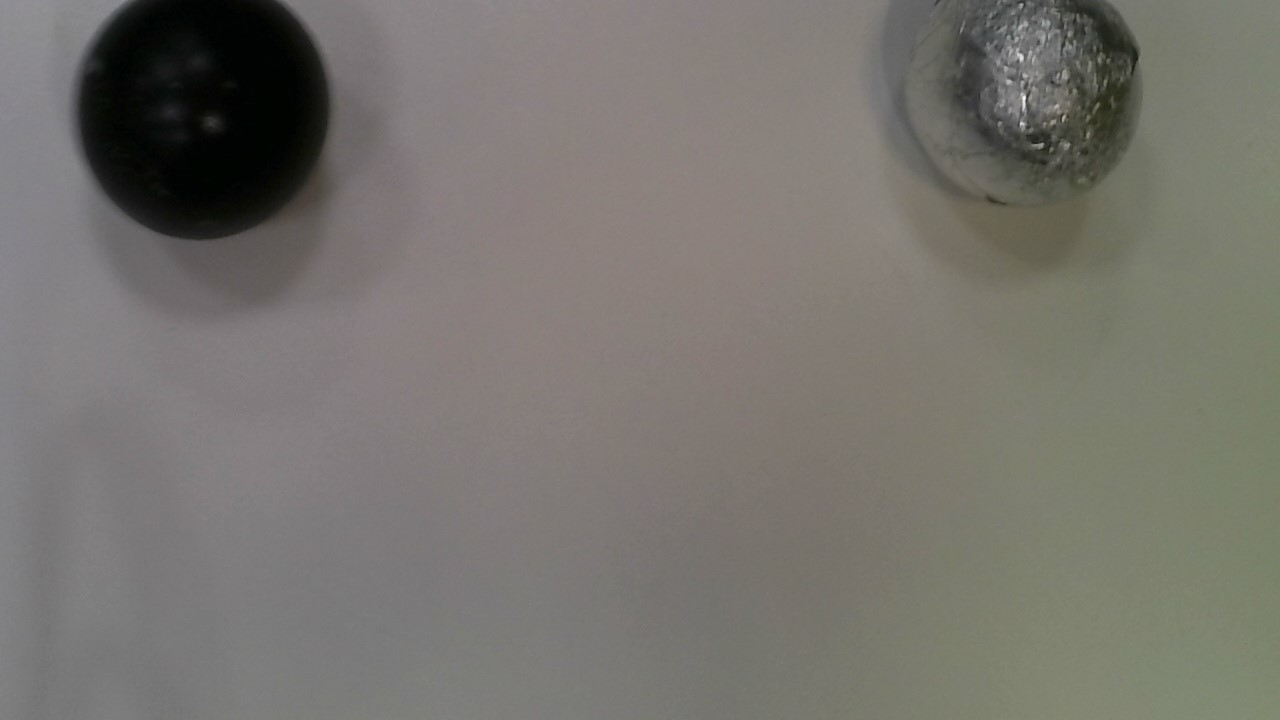black_ball: (61, 1, 342, 248)
silver_ball: (898, 1, 1159, 213)
